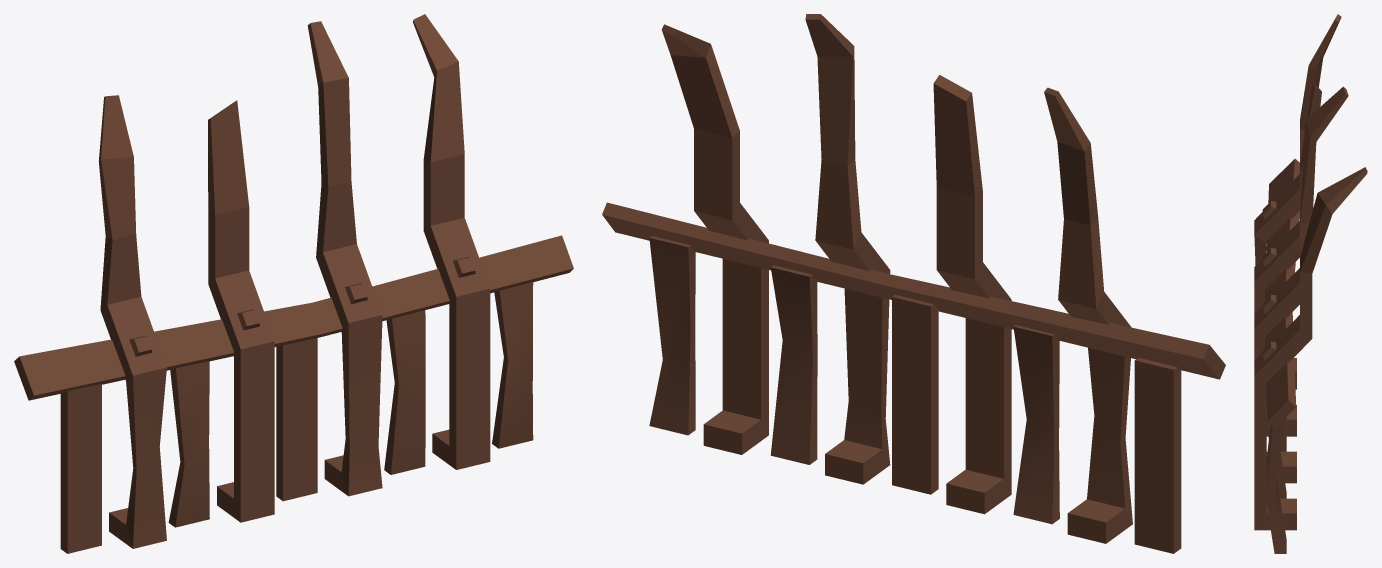
Rendered from SpikeFence_00.FBX.
3 renders of one model, left to right at view 1: azimuth 30°, elevation 25°; view 2: azimuth 150°, elevation 25°; view 3: azimuth 270°, elevation 25°, orthographic. The views are drawn at different scales.
Visible parts, largest first — view 1: SpikeFence_00; view 2: SpikeFence_00; view 3: SpikeFence_00.
Boxes of the visible parts, x1,y1,x2,y2 form: SpikeFence_00: [14, 14, 573, 553]; SpikeFence_00: [602, 14, 1225, 553]; SpikeFence_00: [1254, 14, 1367, 553].
Bounding box in the file's own units: 2.5 × 1.92 × 0.5095.
